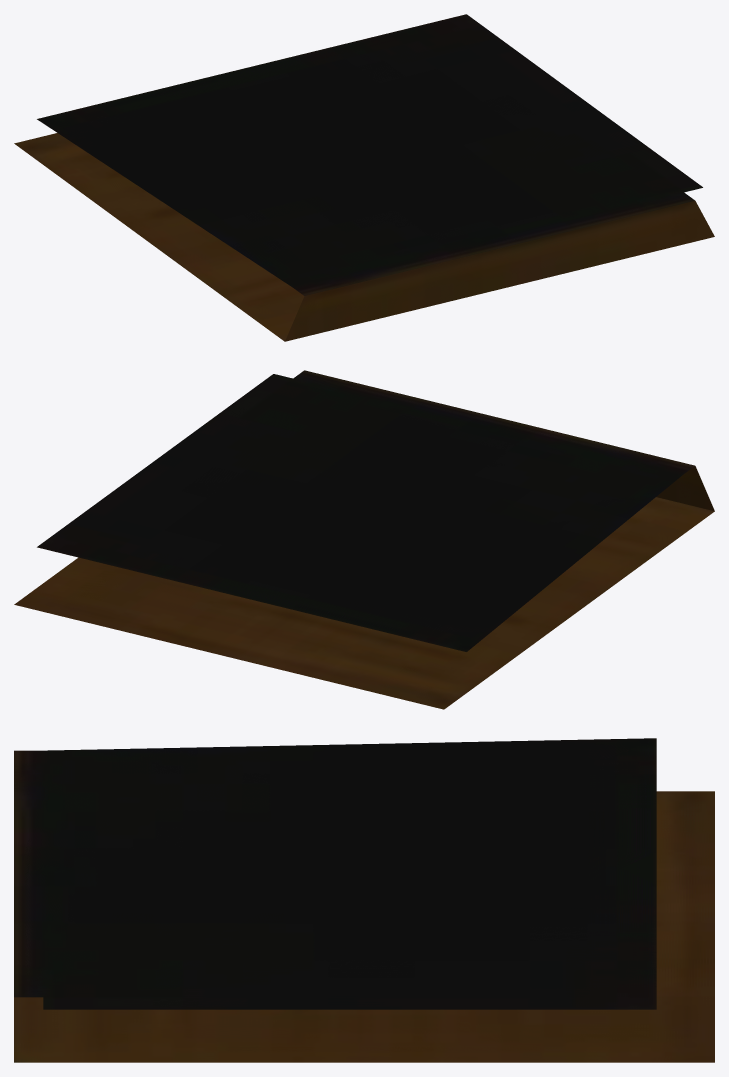
Rendered from link_8__shelf-11.glb.
3 views of the same model, one above another, from view 1: azimuth 30°, elevation 25°; view 2: azimuth 150°, elevation 25°; view 3: azimuth 270°, elevation 25° (orthographic). The views are drawn at different scales.
Visible parts, largest first — view 1: geometry_0; view 2: geometry_0; view 3: geometry_0.
Boxes of the visible parts, <box> form: geometry_0: <box>14,14,714,341</box>; geometry_0: <box>14,370,714,709</box>; geometry_0: <box>14,738,714,1062</box>.
Size of the model in its own units: 0.1155 by 0.0105 by 0.126.
1 material, 1 textured.
